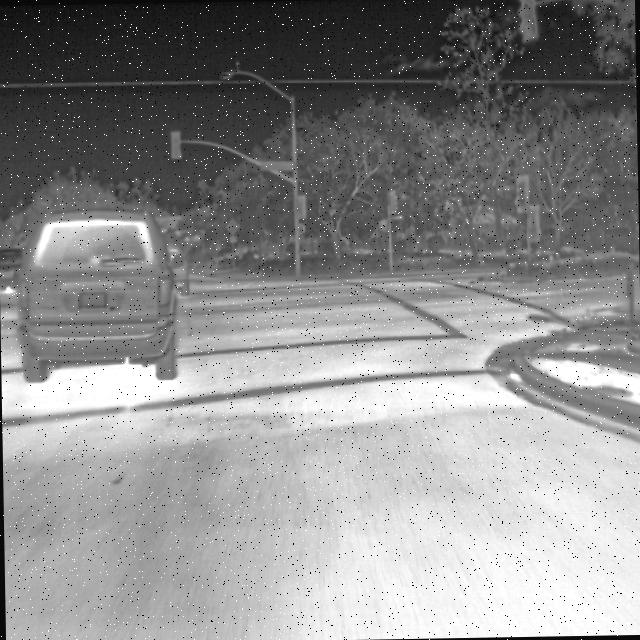Vehicle: (12, 204, 188, 387), (0, 243, 23, 294)
